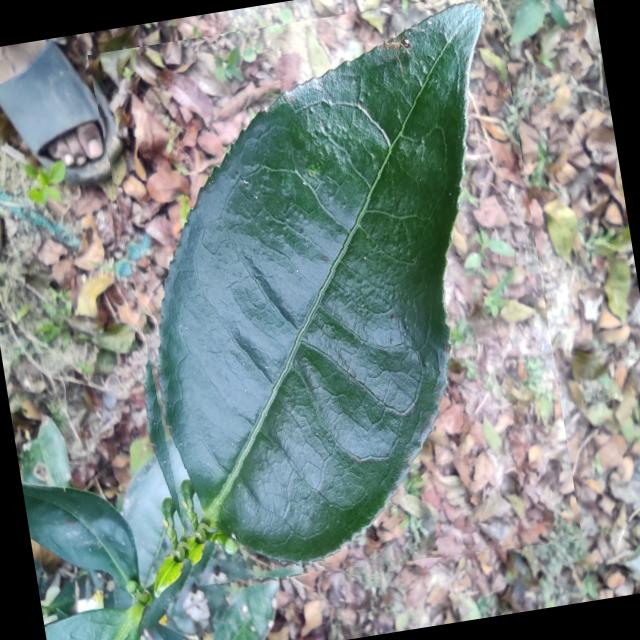Category D(7+ days, Not for Tea): (86, 0, 582, 605)
